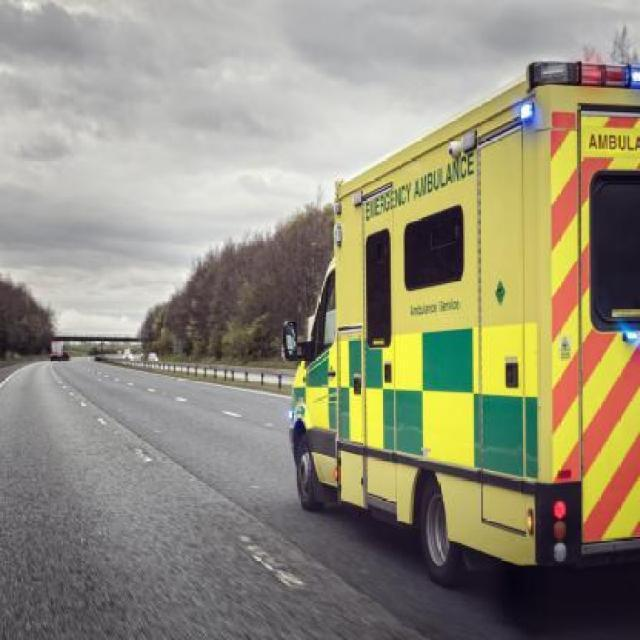emergency: (280, 58, 640, 586)
